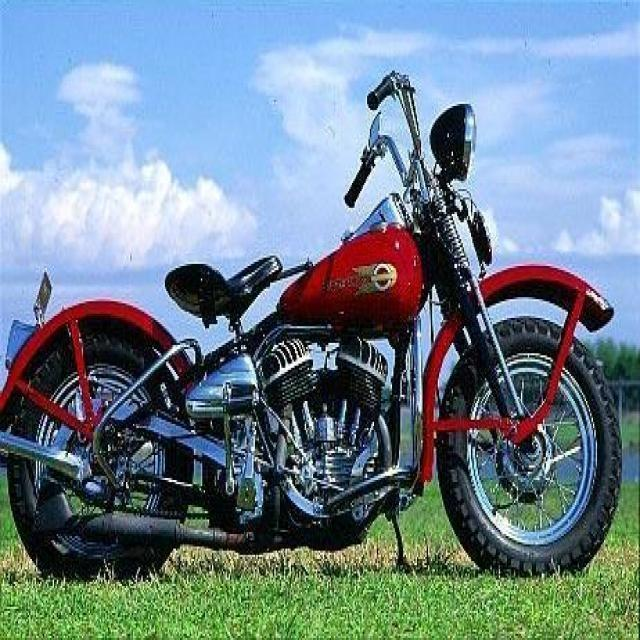Motorcycle: (3, 110, 626, 584)
